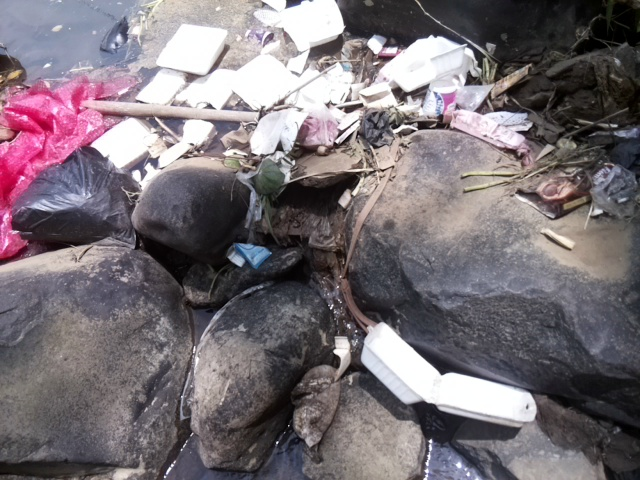Sampah_Plastik: (1, 74, 136, 255), (17, 145, 140, 248), (535, 158, 640, 219), (225, 241, 273, 271)
Sampah_Styrofoam: (353, 317, 541, 431), (184, 57, 357, 159), (378, 30, 478, 95), (264, 1, 348, 48), (155, 23, 229, 70), (98, 113, 157, 170), (135, 66, 187, 108)
